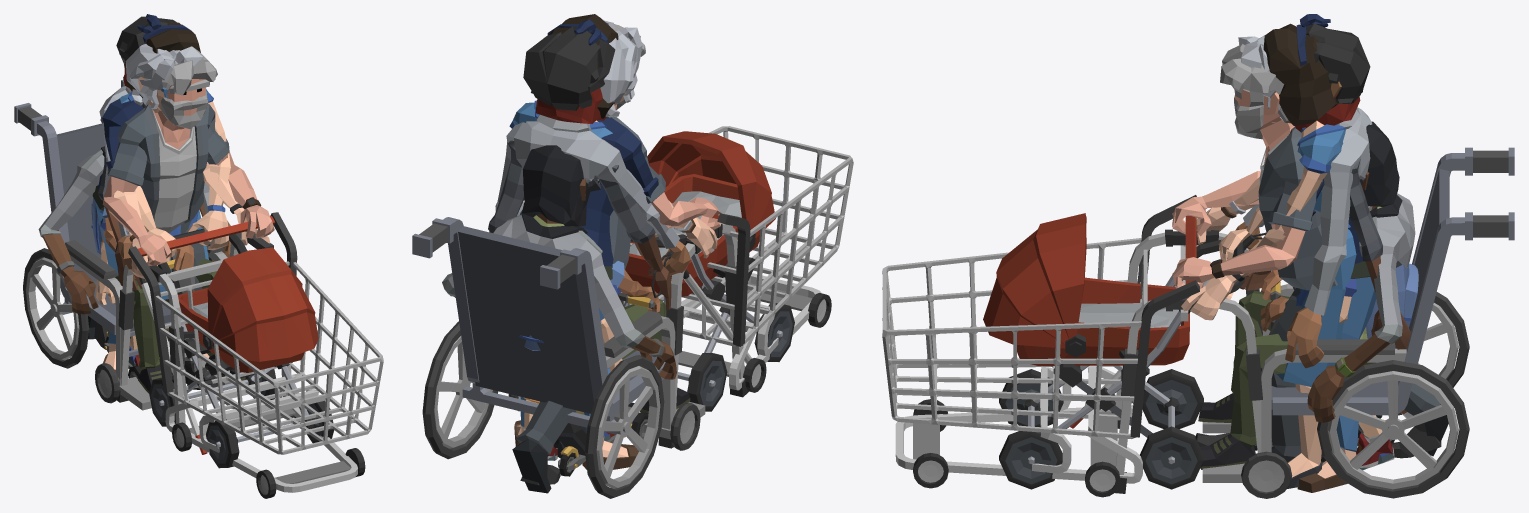
Rendered from human-characters-poses-2.glb.
The picture shows the model from 3 angles, left to right: view 1: azimuth 30°, elevation 25°; view 2: azimuth 150°, elevation 25°; view 3: azimuth 270°, elevation 25°; orthographic projection. The views are drawn at different scales.
Parts seen in each view (by area): view 1: Character_16, Character_10, Character_11, Character_12, Character_15, Character_9, Character_13, Character_14; view 2: Character_11, Character_16, Character_10, Character_15, Character_12, Character_9, Character_13, Character_14; view 3: Character_16, Character_10, Character_11, Character_12, Character_15, Character_9, Character_14, Character_13.
Boxes of the visible parts, x1,y1,x2,y2 form: Character_16: (88,53,383,498); Character_10: (119,14,334,468); Character_11: (14,79,245,410); Character_12: (92,44,294,441); Character_15: (99,16,230,454); Character_9: (94,60,218,389); Character_13: (102,207,194,382); Character_14: (91,198,139,365); Character_11: (412,145,705,498); Character_16: (512,19,853,493); Character_10: (509,14,794,458); Character_15: (495,26,751,455); Character_12: (514,20,749,469); Character_9: (472,88,671,485); Character_13: (547,261,660,476); Character_14: (518,284,622,459); Character_16: (882,44,1454,497); Character_10: (983,14,1356,489); Character_11: (1198,121,1514,498); Character_12: (1111,35,1376,493); Character_15: (1070,23,1382,462); Character_9: (1195,88,1441,458); Character_14: (1339,263,1418,467); Character_13: (1254,206,1394,470).
Bounding box in the file's own units: 0.9155 × 1.86 × 2.39.
Materials: 1 (1 with a texture image).
